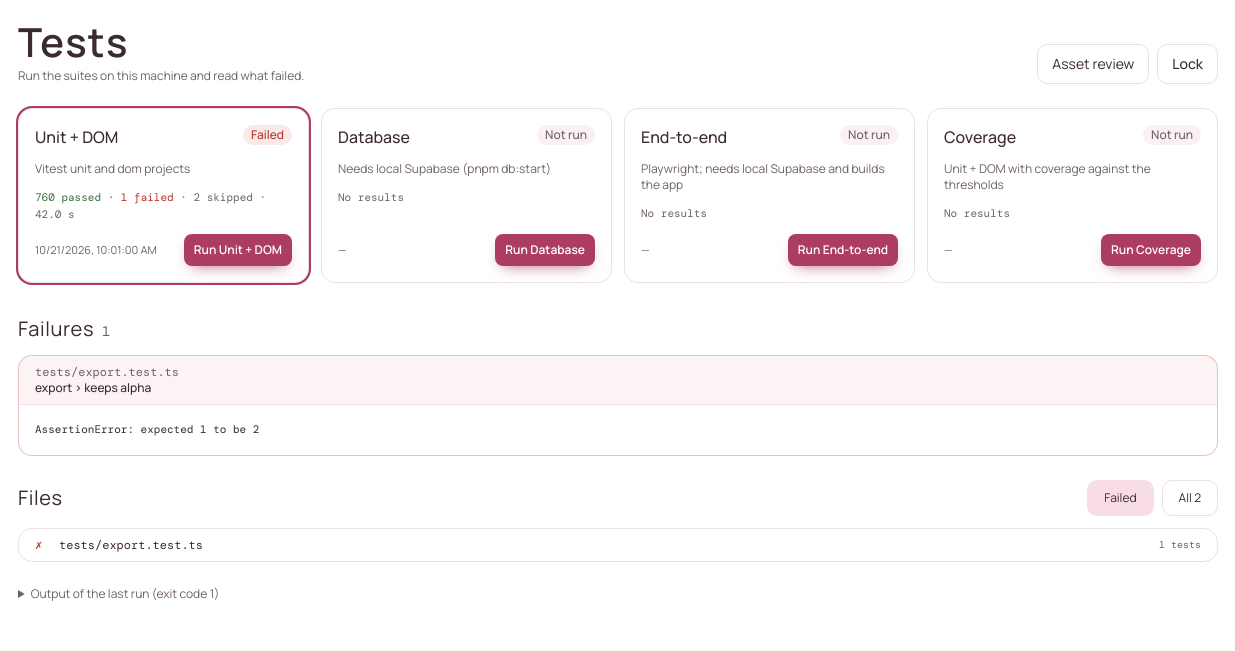
Test: summarizes every suite and leads with what failed
expect the text "Failed" is shown: met, box x1=243 y1=125 x2=292 y2=145
expect the text "· 1 failed" is shown: met, box x1=101 y1=190 x2=174 y2=204
Click the button "All 2" at (1190,498), box x1=1162 y1=480 x2=1218 y2=516
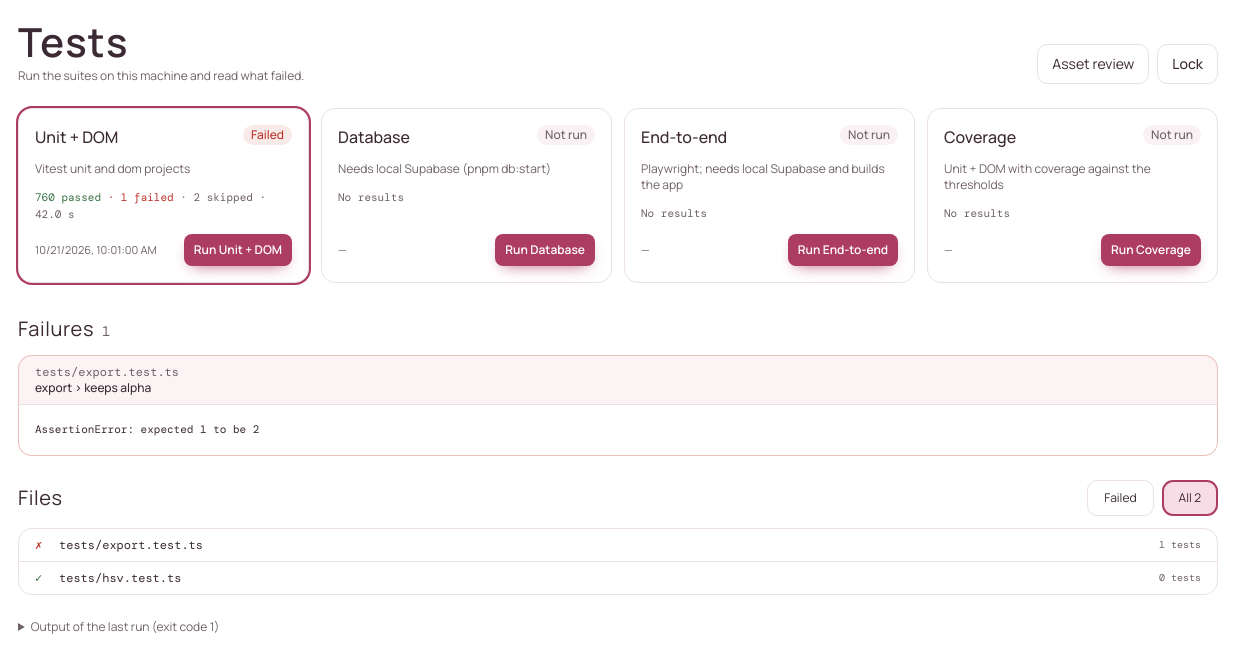
expect the text "tests/hsv.test.ts" is shown: met, box x1=59 y1=570 x2=181 y2=586
